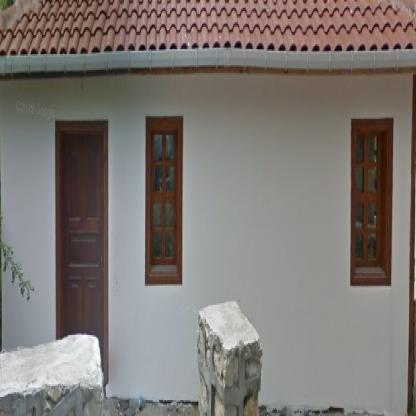door: (61, 135, 101, 338)
window: (357, 133, 381, 267), (151, 136, 175, 266)
